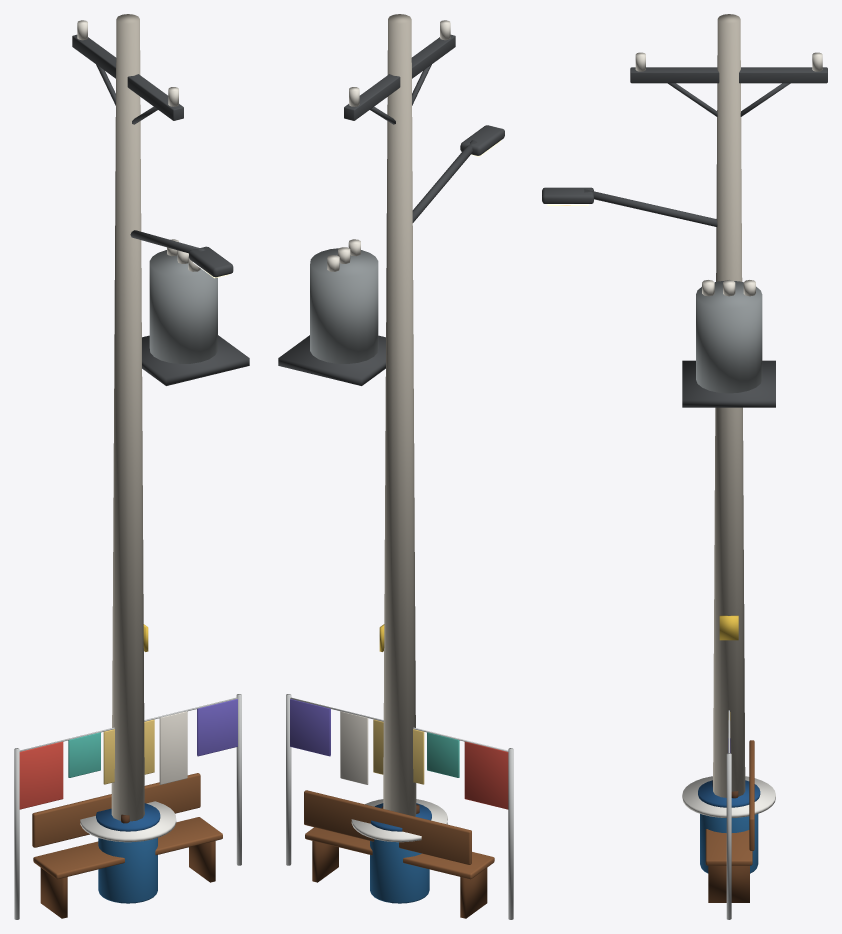
The model's file is props.glb.
3 renders of one model, left to right at view 1: azimuth 30°, elevation 25°; view 2: azimuth 150°, elevation 25°; view 3: azimuth 270°, elevation 25°, orthographic. The views are drawn at different scales.
Visible parts, largest first — view 1: Tiang, Dudukan, Trafo, KepalaLampu, Tong, Baju0, KepalaLampu.001, Tali, Baju4, Baju3, Kaki0.8, Daun (+3 smaller); view 2: Tiang, Dudukan, Trafo, KepalaLampu, Tong, Baju0, KepalaLampu.001, Tali, Baju4, Baju3, Kaki0.8, Baju1 (+3 smaller); view 3: Tiang, Trafo, KepalaLampu, KepalaLampu.001, Dudukan, Daun, Kaki0.8, Tong, Tali, TutupTong, Isolator0.001.
Part boxes in pixels (x1,y1,x2,y2): Tiang: [111, 14, 144, 821]; Dudukan: [32, 773, 222, 879]; Trafo: [149, 250, 217, 363]; KepalaLampu: [72, 34, 233, 277]; Tong: [98, 838, 157, 903]; Baju0: [19, 741, 63, 809]; KepalaLampu.001: [142, 335, 249, 385]; Tali: [14, 694, 241, 919]; Baju4: [197, 699, 237, 756]; Baju3: [159, 711, 187, 784]; Kaki0.8: [40, 841, 215, 918]; Daun: [80, 801, 176, 842]; Tiang: [383, 14, 416, 816]; Dudukan: [304, 790, 494, 879]; Trafo: [310, 248, 378, 363]; KepalaLampu: [344, 34, 504, 222]; Tong: [370, 839, 429, 903]; Baju0: [464, 741, 508, 809]; KepalaLampu.001: [278, 335, 385, 385]; Tali: [286, 694, 513, 919]; Baju4: [290, 699, 330, 756]; Baju3: [340, 711, 368, 784]; Kaki0.8: [312, 841, 487, 918]; Baju1: [427, 732, 459, 777]; Tiang: [713, 14, 745, 797]; Trafo: [696, 281, 762, 393]; KepalaLampu: [542, 67, 827, 226]; KepalaLampu.001: [682, 360, 775, 407]; Dudukan: [705, 740, 754, 865]; Daun: [682, 776, 775, 817]; Kaki0.8: [708, 865, 749, 902]; Tong: [700, 814, 758, 873]; Tali: [726, 710, 731, 919]; TutupTong: [698, 780, 760, 807]; Isolator0.001: [702, 280, 755, 296].
Bounding box in the file's own units: 2.45 × 9 × 2.75.
